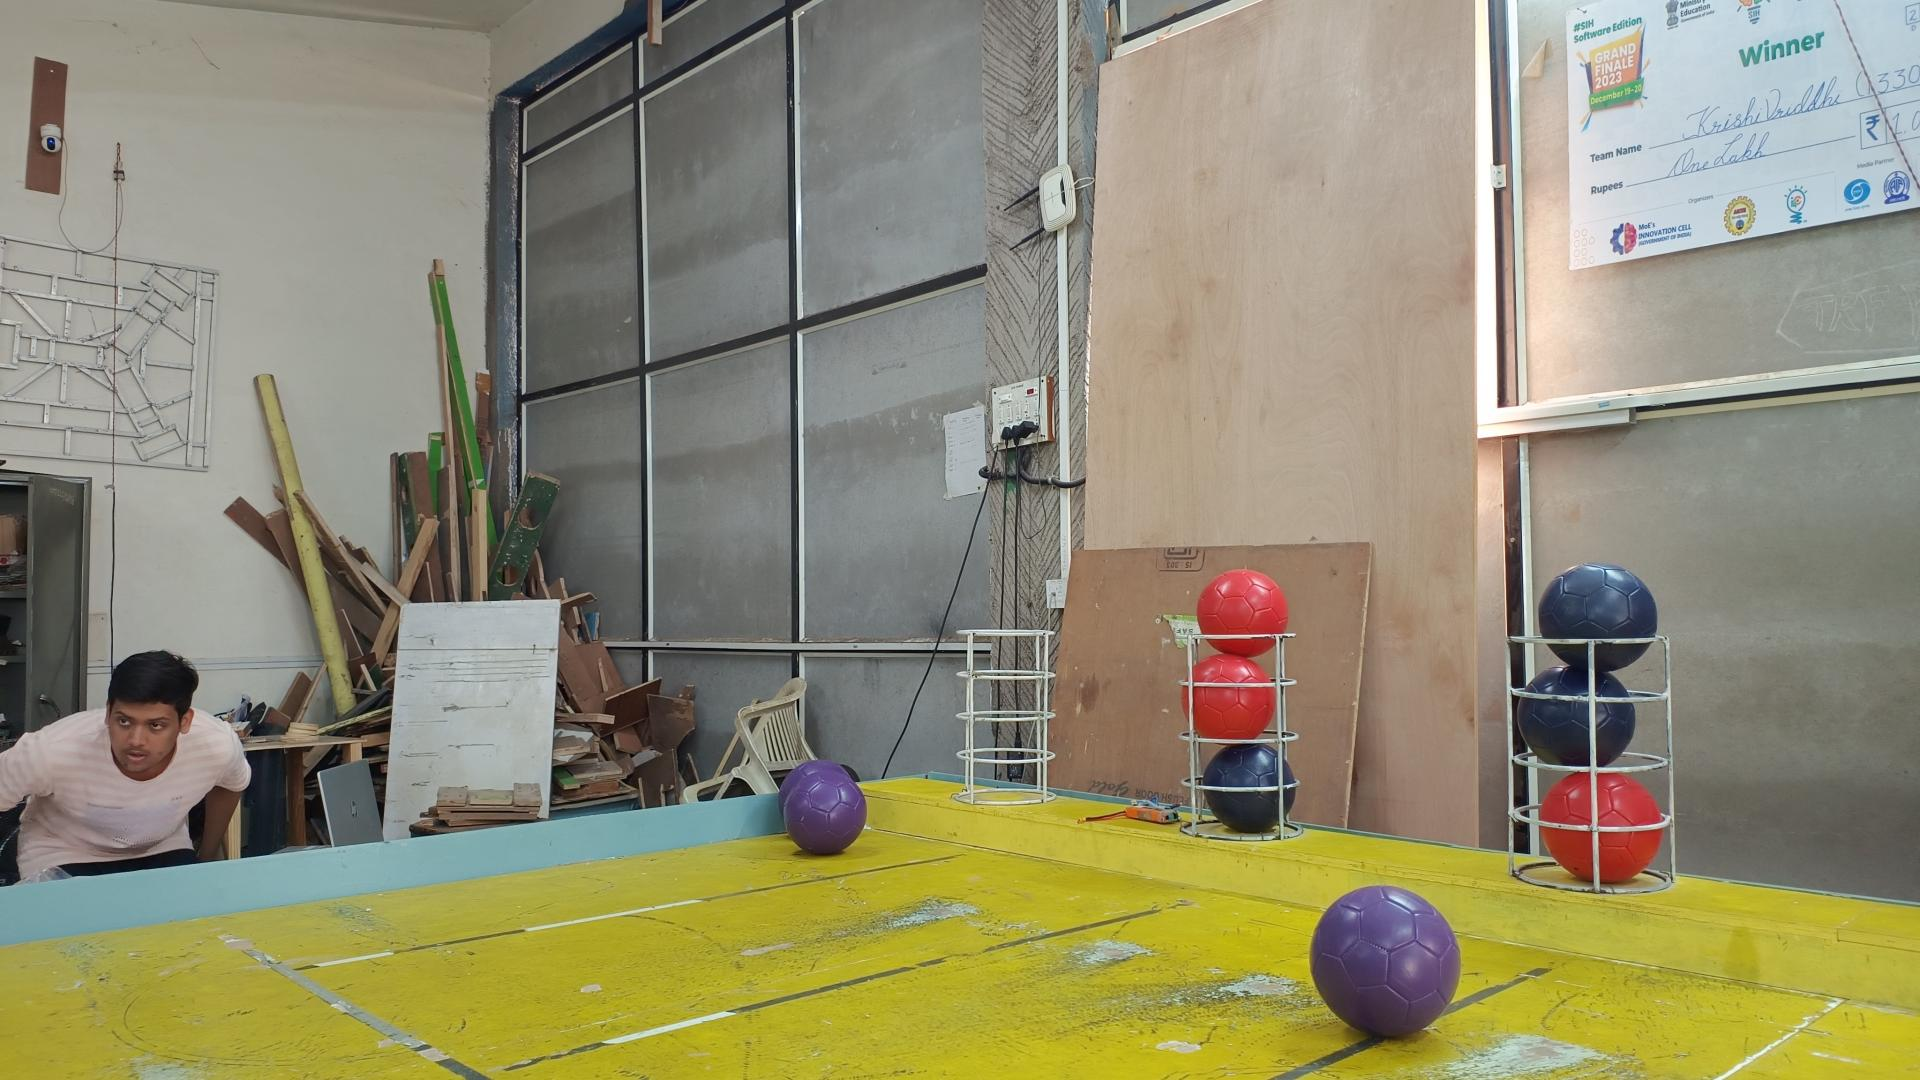dhoka: (1538, 563, 1658, 671), (1515, 663, 1635, 769), (1204, 742, 1298, 832)
laale: (1538, 773, 1665, 885), (1196, 570, 1290, 657), (1182, 653, 1275, 738)
